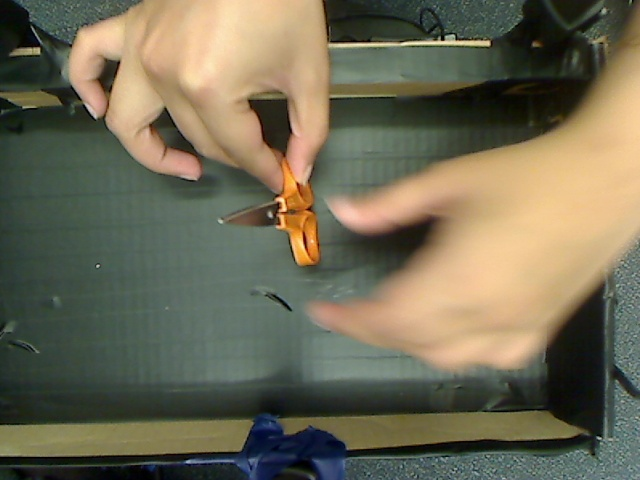scissors: (205, 136, 336, 283)
